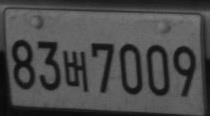0: (118, 42, 142, 95), (146, 44, 170, 97)
3: (36, 40, 61, 91)
7: (90, 42, 115, 93)
8: (11, 38, 36, 90)
9: (172, 44, 196, 98)
버: (62, 50, 89, 92)
